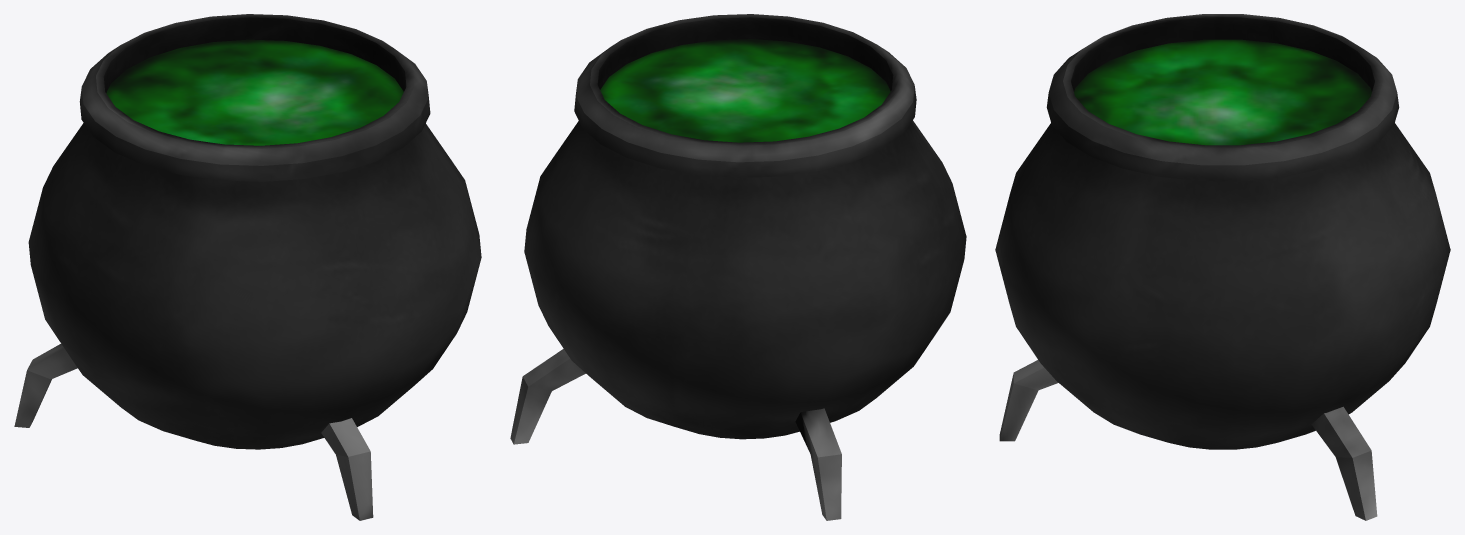
File: cauldron_green.glb
3 views of the same model, side by side, from view 1: azimuth 30°, elevation 25°; view 2: azimuth 150°, elevation 25°; view 3: azimuth 270°, elevation 25° (orthographic). The views are drawn at different scales.
Visible parts, largest first — view 1: cauldron.011_26; view 2: cauldron.011_26; view 3: cauldron.011_26.
Boxes of the visible parts, x1,y1,x2,y2 form: cauldron.011_26: (14, 14, 481, 520); cauldron.011_26: (510, 14, 966, 520); cauldron.011_26: (995, 14, 1450, 520).
Size of the model in its own units: 0.8629 by 0.7519 by 0.8692.
Materials: 1 (1 with a texture image).
